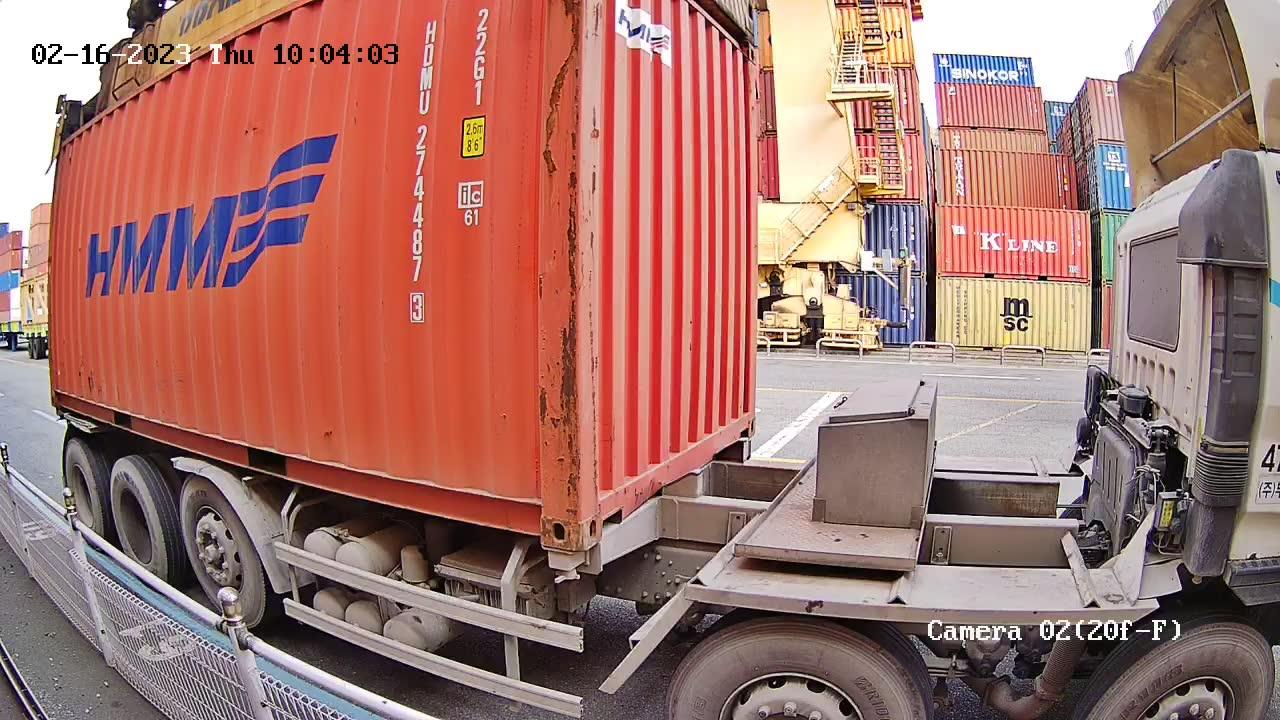Chassis: (590, 434, 754, 575)
Cone: (544, 547, 590, 583)
Hole_L: (580, 460, 627, 551)
Hole_R: (511, 469, 583, 552), (727, 392, 757, 441)
Tire: (668, 624, 926, 714), (1093, 627, 1270, 712), (178, 476, 265, 628), (110, 458, 166, 578), (62, 441, 105, 528)
